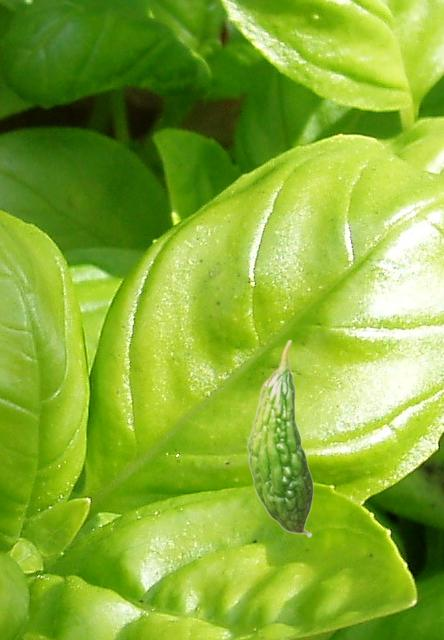ampalaya: (246, 339, 314, 538)
